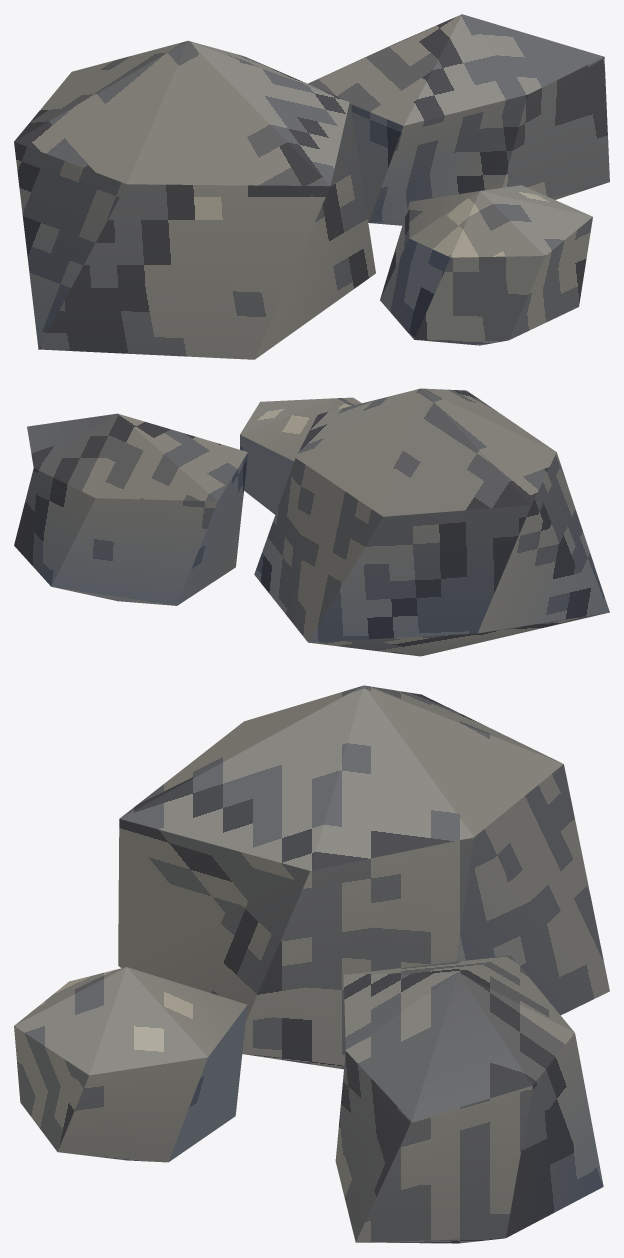
File: mnat.rock__cluster.glb
The picture shows the model from 3 angles, top to bottom: view 1: azimuth 30°, elevation 25°; view 2: azimuth 150°, elevation 25°; view 3: azimuth 270°, elevation 25°; orthographic projection. The views are drawn at different scales.
Visible parts, largest first — view 1: kit_rock; view 2: kit_rock; view 3: kit_rock.
Part boxes in pixels (x1,y1,x2,y2): kit_rock: (14, 14, 609, 359); kit_rock: (14, 388, 609, 656); kit_rock: (14, 685, 609, 1243).
Bounding box in the file's own units: 1.89 × 0.9 × 1.26.
Materials: 1 (1 with a texture image).
